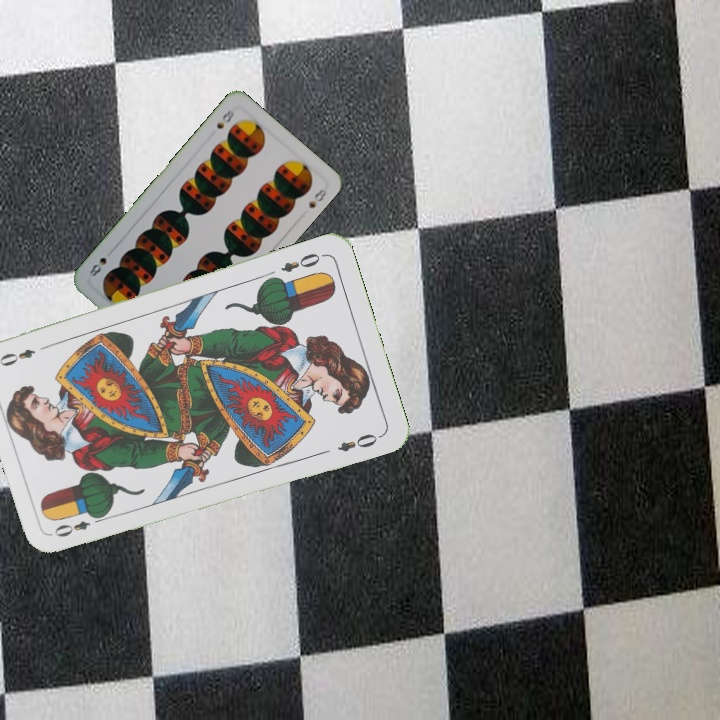EO: (50, 511, 107, 540), (277, 249, 327, 275)
S8: (212, 105, 238, 132)
